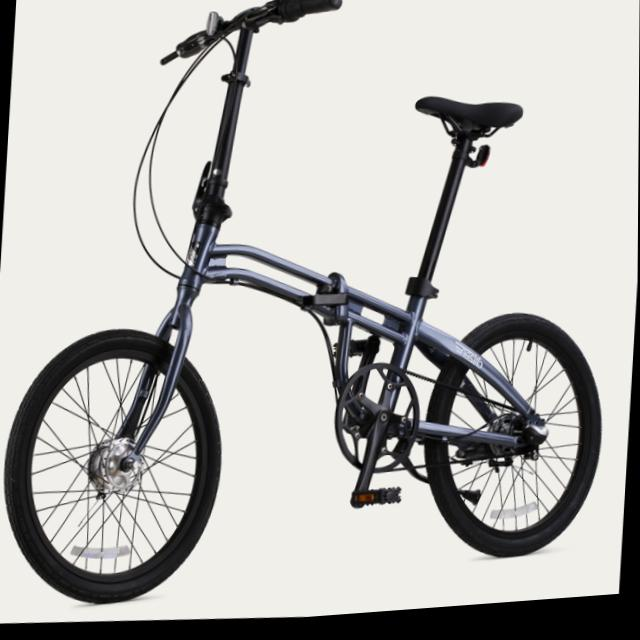folding-bike: (0, 0, 630, 639)
